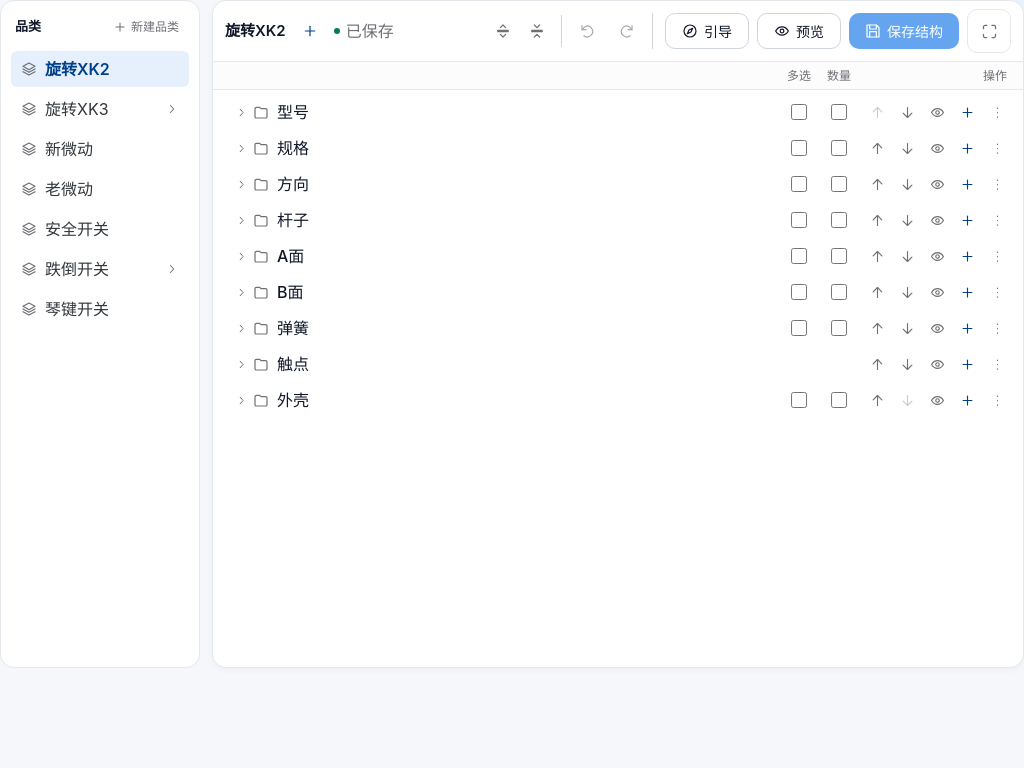
Scenario: 409 版本冲突：保留草稿并提示选择「拉取最新结构」或稍后再试
The image size is (1024, 768).
Click the button named "添加内容" at [310, 31], box [294,15,326,47]
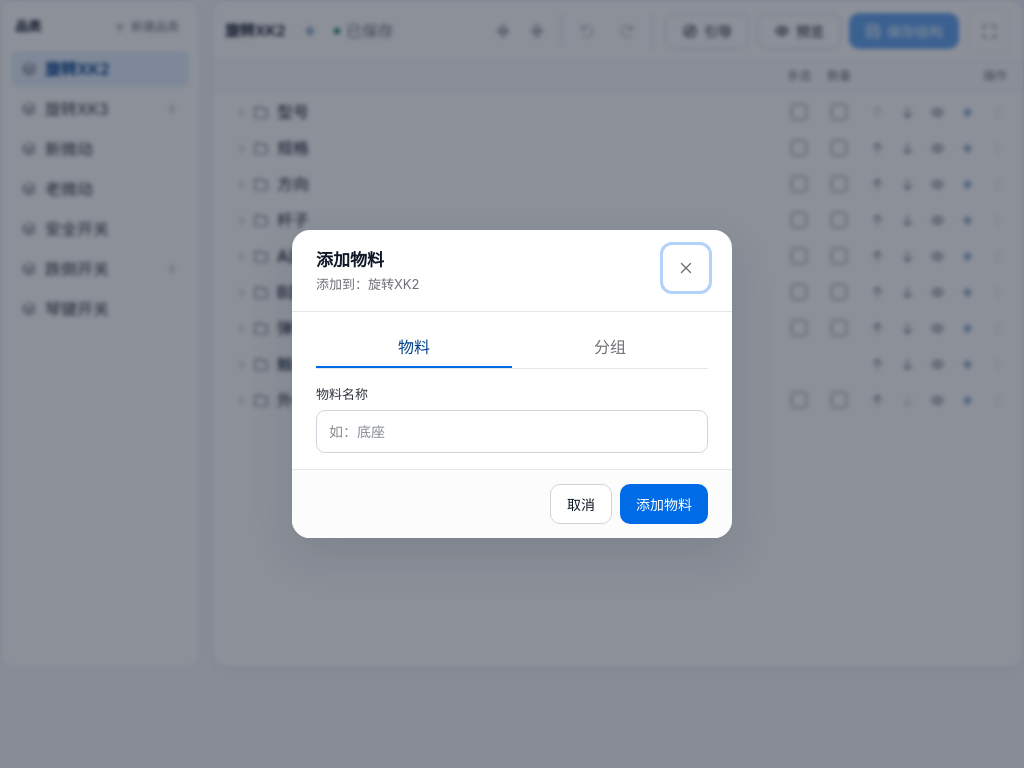
Click the radio button labelled "分组" at [610, 347], box [594,337,626,357]
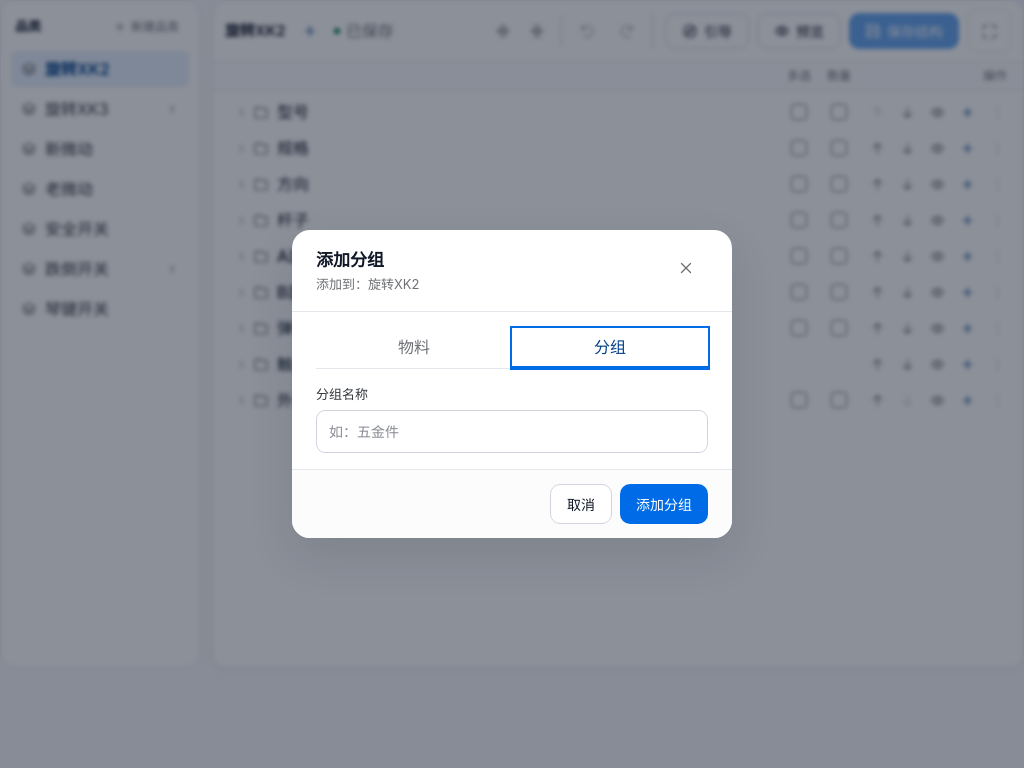
Type "新区" into the field with placeholder "如：五金件" at [512, 432], box [316,410,708,453]
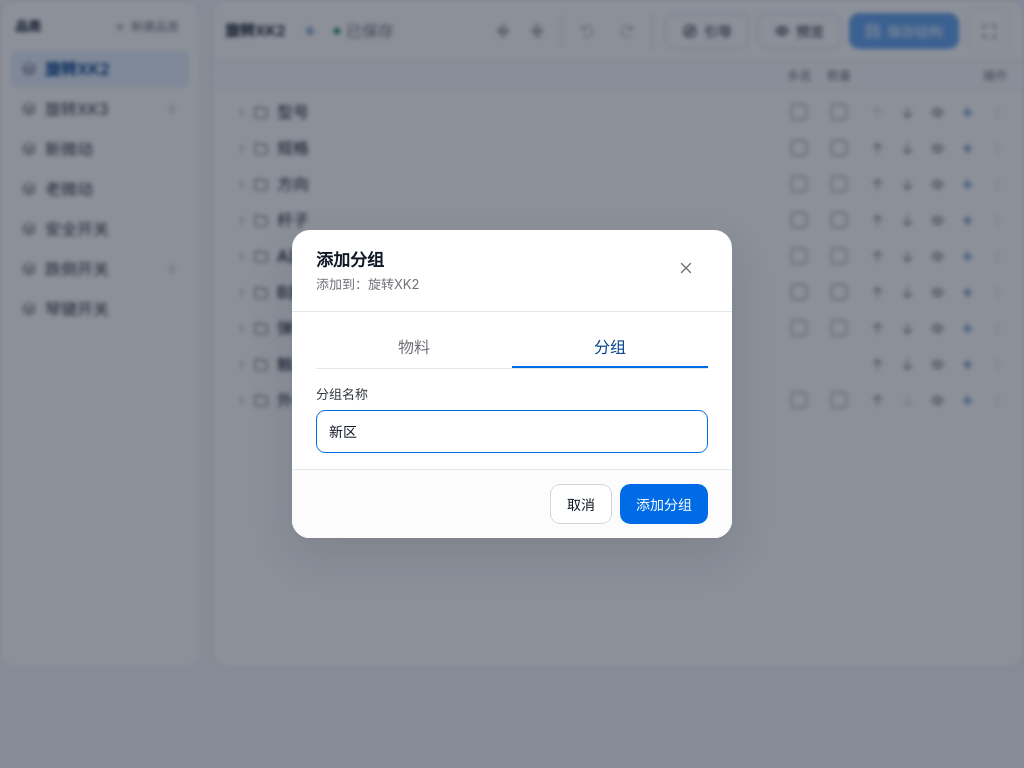
Click the button "添加分组" at [664, 504], box [620,484,708,524]
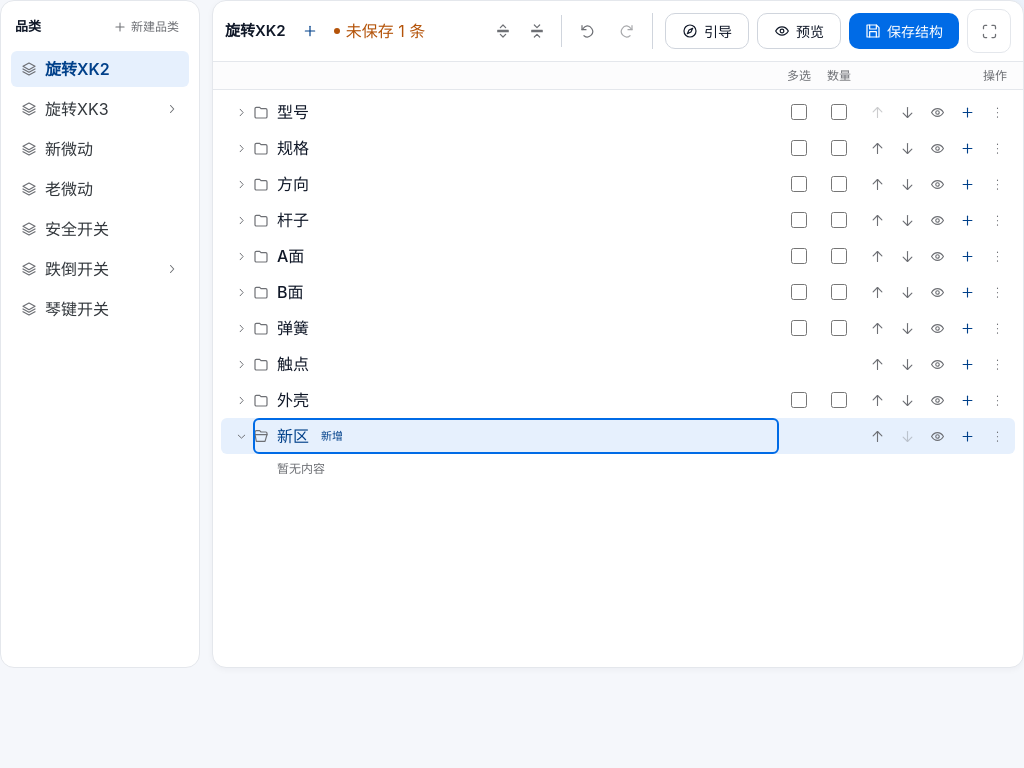
Click the button "保存结构" at [904, 31], box [849,13,959,49]
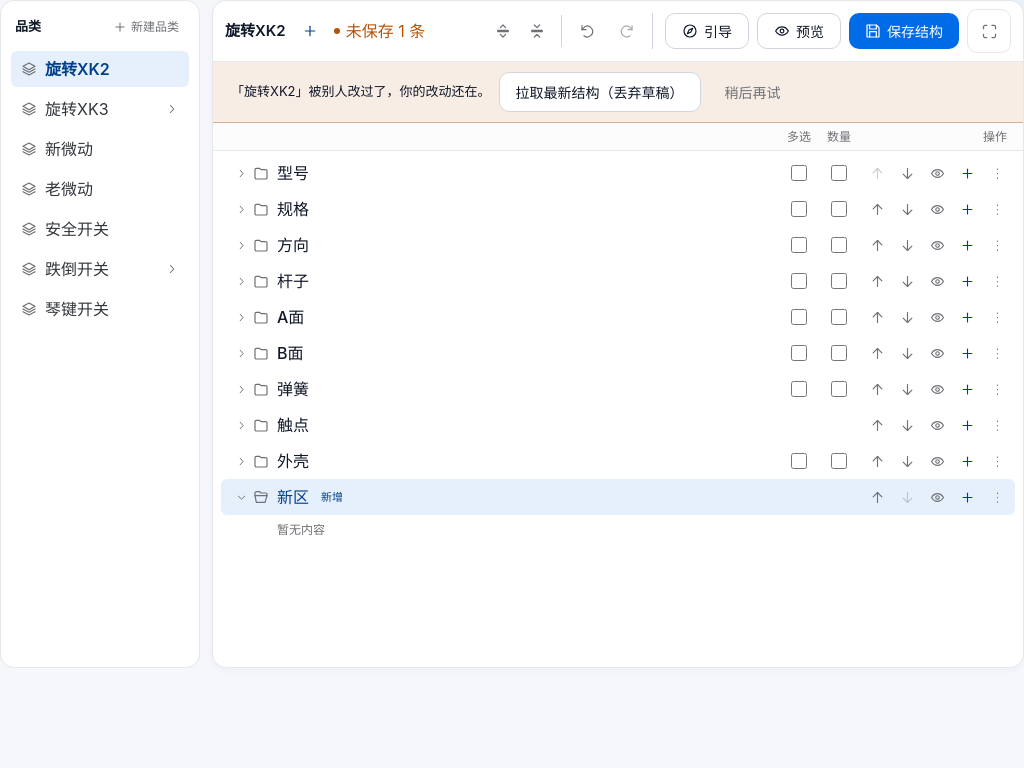
Now the text "未保存 1 条" is shown, box [334,19,425,43]
Now the text "「旋转XK2」被别人改过了，你的改动还在。" is shown, box [231,82,491,102]
// 选择拉取最新结构：清空草稿并失效目录缓存
Click the button "拉取最新结构（丢弃草稿）" at [600, 92], box [499,72,701,112]
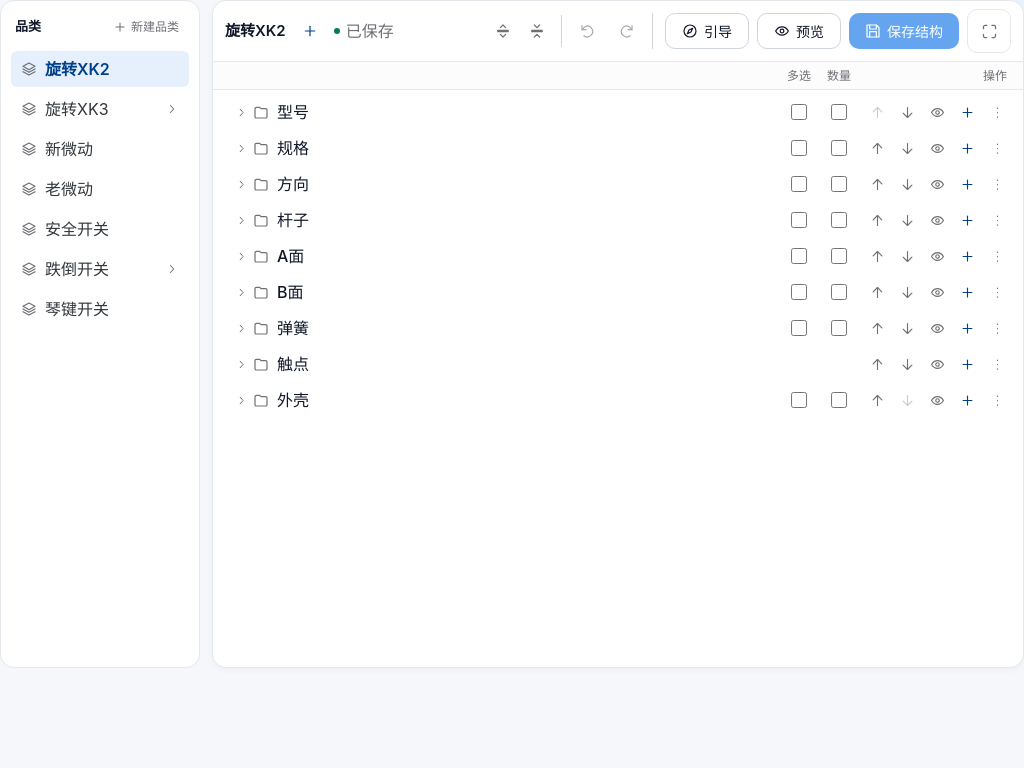
Now the text "已保存" is shown, box [334,19,394,43]
